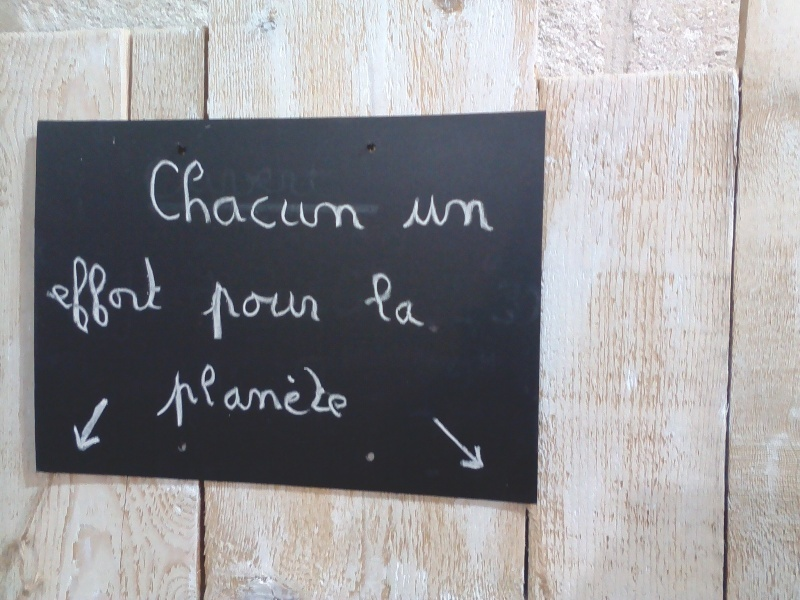text: (49, 254, 64, 336), (65, 254, 80, 336), (81, 254, 96, 336), (97, 254, 112, 336), (113, 254, 128, 336), (129, 254, 144, 336), (145, 254, 160, 336), (161, 158, 176, 231), (177, 158, 192, 231), (193, 158, 208, 231), (209, 158, 224, 231), (225, 158, 240, 231), (241, 158, 256, 231), (257, 158, 272, 231), (273, 158, 288, 231), (289, 158, 304, 231), (305, 158, 320, 231), (321, 158, 336, 231), (337, 158, 352, 231), (161, 362, 176, 430), (177, 362, 192, 430), (193, 362, 208, 430), (209, 362, 224, 430), (225, 362, 240, 430), (241, 362, 256, 430), (257, 362, 272, 430), (273, 362, 288, 430), (289, 362, 304, 430), (305, 362, 320, 430), (321, 362, 336, 430), (209, 279, 224, 344), (225, 279, 240, 344), (241, 279, 256, 344), (257, 279, 272, 344), (273, 279, 288, 344), (289, 279, 304, 344), (305, 279, 320, 344), (337, 362, 351, 430), (353, 158, 366, 231), (148, 158, 160, 231), (369, 272, 384, 328), (385, 272, 400, 328), (401, 272, 416, 328), (417, 192, 432, 233), (433, 192, 448, 233), (449, 192, 464, 233), (465, 192, 480, 233), (481, 192, 496, 233), (404, 192, 416, 233), (201, 279, 208, 344), (417, 272, 425, 328), (43, 254, 48, 336), (161, 254, 166, 336), (362, 272, 368, 328), (156, 362, 160, 430), (497, 192, 501, 233), (321, 279, 323, 344)
